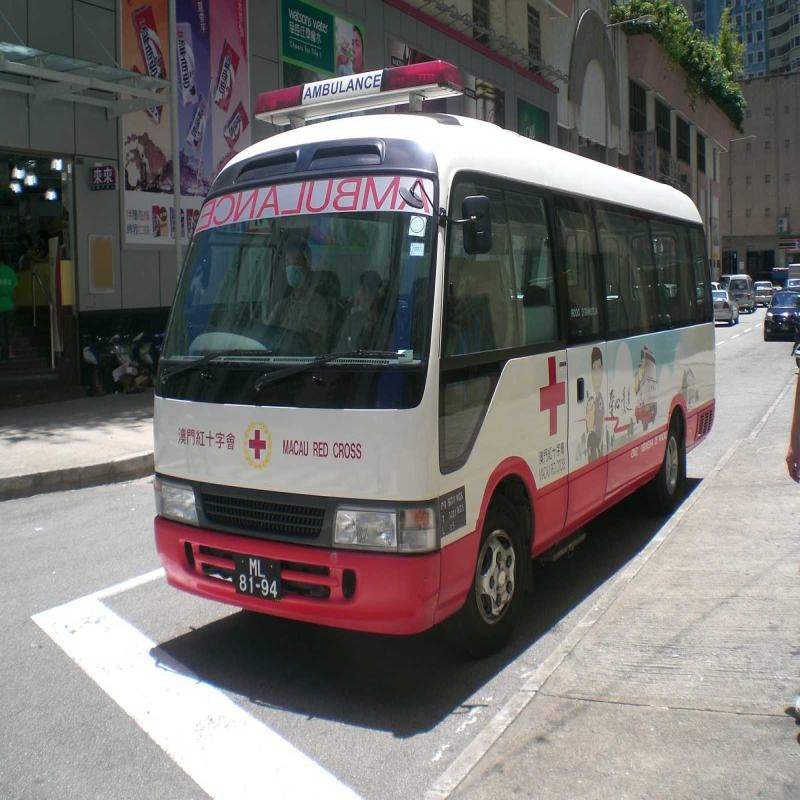AmbulanceSiren: (256, 48, 462, 127)
